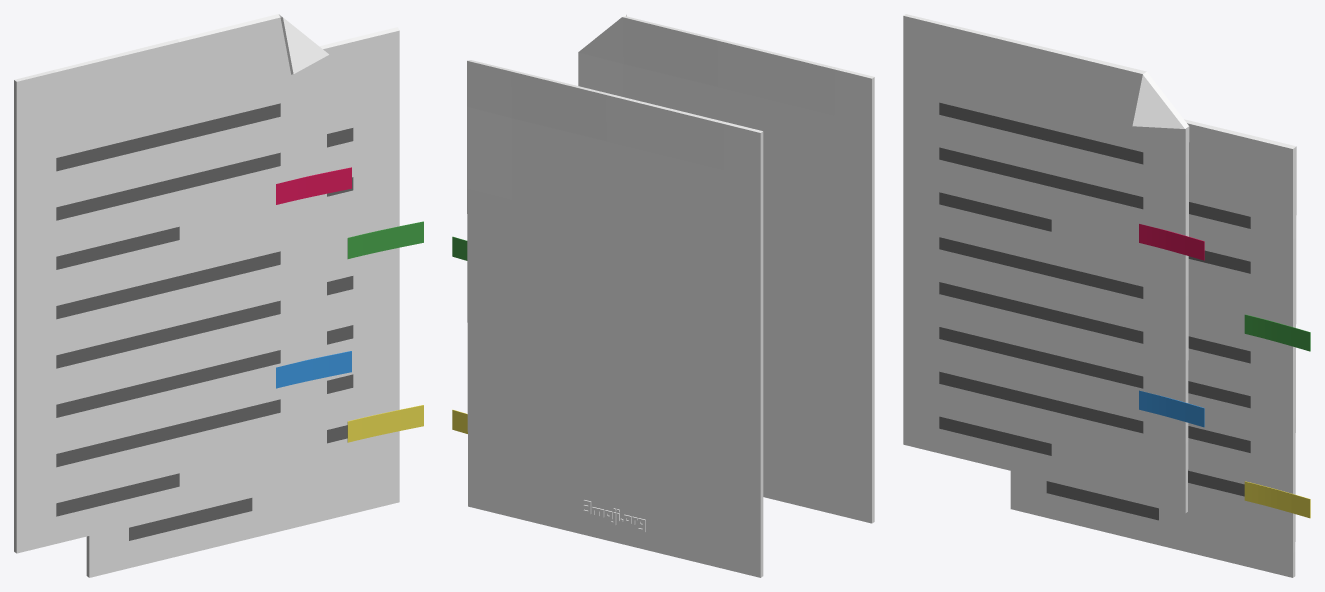
Rendered from bookmark_tabs.fbx.
3 renders of one model, left to right at view 1: azimuth 30°, elevation 25°; view 2: azimuth 150°, elevation 25°; view 3: azimuth 330°, elevation 25°, orthographic. The views are drawn at different scales.
Visible parts, largest first — view 1: Plane.324; view 2: Plane.324; view 3: Plane.324.
Part boxes in pixels (x1,y1,x2,y2): Plane.324: (14, 14, 423, 577); Plane.324: (452, 14, 874, 577); Plane.324: (903, 14, 1310, 577).
Size of the model in its own units: 173 by 207 by 26.97.
Materials: 1 (1 with a texture image).
